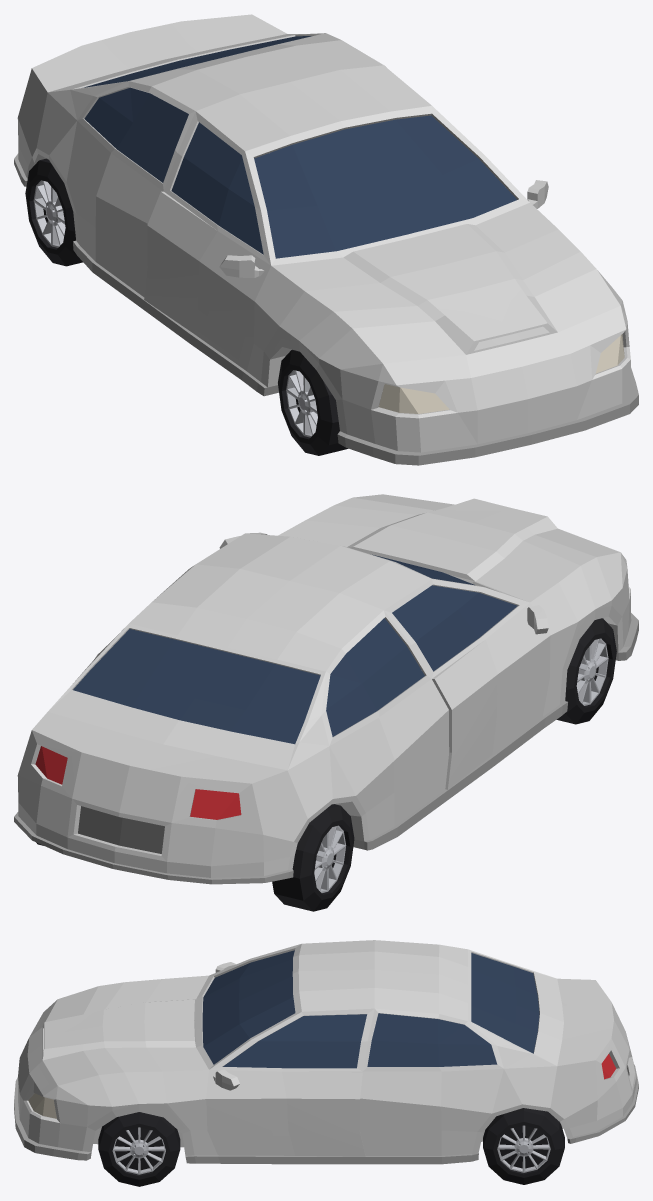
Rendered from coupe.glb.
The picture shows the model from 3 angles, top to bottom: view 1: azimuth 30°, elevation 25°; view 2: azimuth 150°, elevation 25°; view 3: azimuth 270°, elevation 25°; orthographic projection. The views are drawn at different scales.
Visible parts, largest first — view 1: paint, glass, tyre, rim, light; view 2: paint, glass, tyre, rim, trim, light; view 3: paint, glass, tyre, rim, light.
Boxes of the visible parts, x1,y1,x2,y2 form: paint: (14,14,638,465); glass: (84,36,516,258); tyre: (25,158,348,455); rim: (33,180,317,437); light: (378,334,624,413); paint: (14,494,638,884); glass: (73,554,517,744); tyre: (36,618,616,911); rim: (314,638,608,892); trim: (78,806,164,853); light: (35,746,241,819); paint: (14,940,638,1164); glass: (202,950,539,1068); tyre: (98,1108,564,1186); rim: (112,1125,550,1174); light: (28,1054,616,1118).
Size of the model in its own units: 2 by 1.28 by 4.4.
